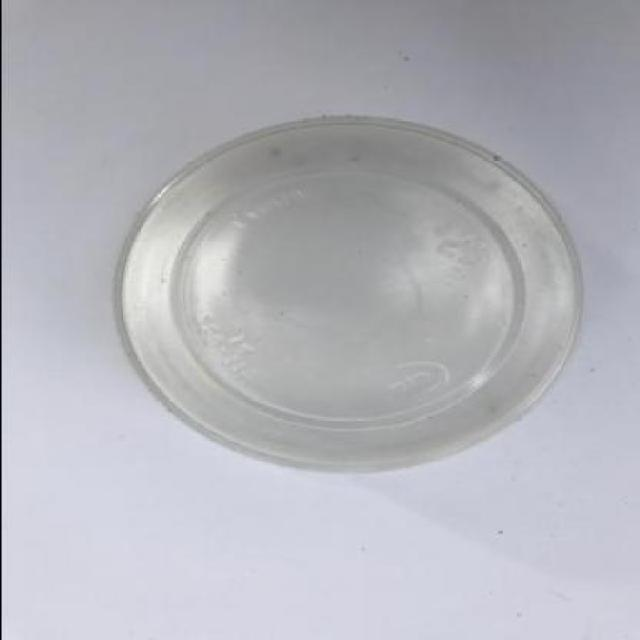PLASTIC: (115, 117, 582, 474)
